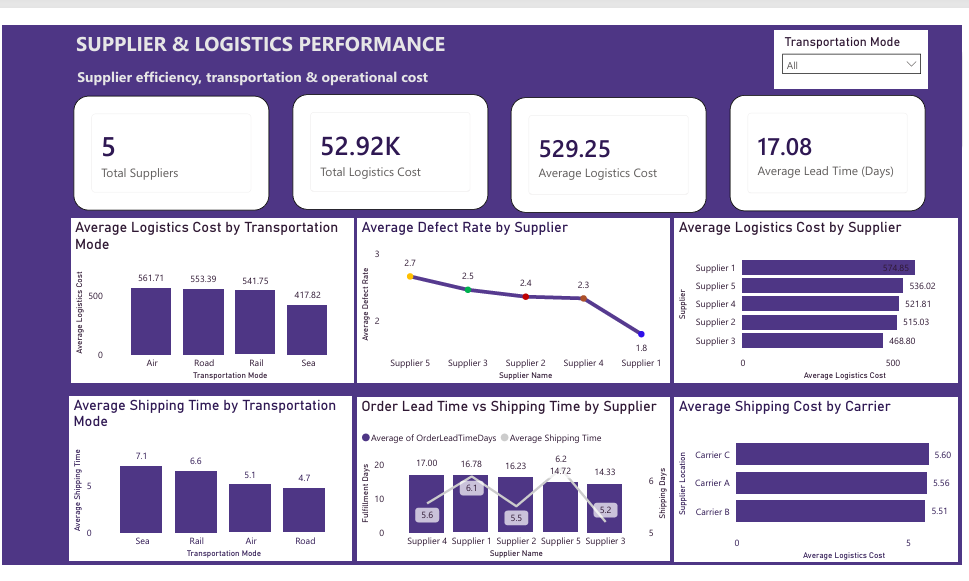

Layout of this report page (visuals, bound fields, positions):
{"tool":"powerbi","page":{"name":"Supplier & Logistics Performance","canvas":[1280,720],"ordinal":2},"visuals":[{"type":"textbox","box":[26,0,640.9,50.4],"z":0},{"type":"textbox","box":[26,42.3,613.2,61.8],"z":1000},{"type":"clusteredColumnChart","title":"Average  Logistics Cost by Transportation Mode","fields":{"Category":["supplychainanalytics supply_chain_data.TransportationMode"],"Y":["Avg(supplychainanalytics supply_chain_data.LogisticsCosts)"]},"box":[34.2,257,377.4,219.6],"z":2000},{"type":"clusteredBarChart","title":"Average Logistics Cost by Supplier","fields":{"Category":["supplychainanalytics supply_chain_data.SupplierName"],"Y":["Avg(supplychainanalytics supply_chain_data.LogisticsCosts)"]},"box":[870.2,257,377.4,219.6],"z":3000},{"type":"slicer","fields":{"Values":["supplychainanalytics supply_chain_data.TransportationMode"]},"box":[1036.1,3.3,204.9,78.1],"z":4000},{"type":"shape","box":[342.5,91.4,274,152],"z":4000,"group":"g2"},{"type":"shape","box":[661.2,89.7,274,152],"z":5000,"group":"g3"},{"type":"shape","box":[20.3,91.3,274,152],"z":5000,"group":"g1"},{"type":"clusteredColumnChart","title":"Average Shipping Time by Transportation Mode","fields":{"Y":["supplychainanalytics supply_chain_data.Average Shipping Time"],"Category":["supplychainanalytics supply_chain_data.TransportationMode"]},"box":[34.2,494.5,377.4,219.6],"z":5000},{"type":"cardVisual","fields":{"Data":["Count(supplychainanalytics supply_chain_data.SupplierName)"]},"box":[31.8,89.7,261,153],"z":6000,"group":"g1"},{"type":"shape","box":[974.9,91.4,274.9,152.9],"z":6000,"group":"g5"},{"type":"clusteredBarChart","title":"Average Shipping Cost by Carrier","fields":{"Category":["supplychainanalytics supply_chain_data.ShippingCarrier"],"Y":["Avg(supplychainanalytics supply_chain_data.ShippingCosts)"]},"box":[870.2,496.1,377.4,219.6],"z":6000},{"type":"group","id":"g1","title":"Group 1","box":[20.3,89.7,274,153.6],"z":7000,"group":"g4"},{"type":"lineClusteredColumnComboChart","title":" Order Lead Time vs Shipping Time by Supplier","fields":{"Category":["supplychainanalytics supply_chain_data.SupplierName"],"Y2":["supplychainanalytics supply_chain_data.Average Shipping Time"],"Y":["Avg(supplychainanalytics supply_chain_data.OrderLeadTimeDays)"]},"box":[432.7,496.1,416.4,218],"z":7000},{"type":"cardVisual","fields":{"Data":["supplychainanalytics supply_chain_data.Total Logistics Cost"]},"box":[353.9,88.1,261,154],"z":8000,"group":"g2"},{"type":"lineChart","title":"Average Defect Rate by Supplier","fields":{"Category":["supplychainanalytics supply_chain_data.SupplierName"],"Y":["supplychainanalytics supply_chain_data.Average Defect Rate"]},"box":[431,257,416.4,219.6],"z":8000},{"type":"group","id":"g2","title":"Group 2","box":[342.5,88.1,274,155.3],"z":8001,"group":"g4"},{"type":"cardVisual","fields":{"Data":["Avg(supplychainanalytics supply_chain_data.LogisticsCosts)"]},"box":[672.6,91.3,261,154],"z":8501,"group":"g3"},{"type":"group","id":"g3","title":"Group 3","box":[661.2,89.7,274,155.6],"z":8502,"group":"g4"},{"type":"group","id":"g4","title":"Group 5","box":[20.3,88.1,1229.4,157.3],"z":9000},{"type":"cardVisual","fields":{"Data":["supplychainanalytics supply_chain_data.Average Supplier Lead Time"]},"box":[986.3,88.1,261,154.5],"z":9002,"group":"g5"},{"type":"group","id":"g5","title":"Group 4","box":[974.9,88.1,274.9,156.1],"z":9003,"group":"g4"}]}

Visuals, with their boxes on the page's 1280x720 design canvas (x1, y1, x2, y2). These are canvas units, not pixel positions in the 969x581 screenshot, which may show the page scaled, cropped or inside an application window:
textbox: [left=26, top=0, right=667, bottom=50]
textbox: [left=26, top=42, right=639, bottom=104]
"Average  Logistics Cost by Transportation Mode" clusteredColumnChart: [left=34, top=257, right=412, bottom=477]
"Average Logistics Cost by Supplier" clusteredBarChart: [left=870, top=257, right=1248, bottom=477]
slicer - supplychainanalytics supply_chain_data.TransportationMode: [left=1036, top=3, right=1241, bottom=81]
shape: [left=342, top=91, right=616, bottom=243]
shape: [left=661, top=90, right=935, bottom=242]
shape: [left=20, top=91, right=294, bottom=243]
"Average Shipping Time by Transportation Mode" clusteredColumnChart: [left=34, top=494, right=412, bottom=714]
cardVisual - Count(supplychainanalytics supply_chain_data.SupplierName): [left=32, top=90, right=293, bottom=243]
shape: [left=975, top=91, right=1250, bottom=244]
"Average Shipping Cost by Carrier" clusteredBarChart: [left=870, top=496, right=1248, bottom=716]
"Group 1" group: [left=20, top=90, right=294, bottom=243]
" Order Lead Time vs Shipping Time by Supplier" lineClusteredColumnComboChart: [left=433, top=496, right=849, bottom=714]
cardVisual - supplychainanalytics supply_chain_data.Total Logistics Cost: [left=354, top=88, right=615, bottom=242]
"Average Defect Rate by Supplier" lineChart: [left=431, top=257, right=847, bottom=477]
"Group 2" group: [left=342, top=88, right=616, bottom=243]
cardVisual - Avg(supplychainanalytics supply_chain_data.LogisticsCosts): [left=673, top=91, right=934, bottom=245]
"Group 3" group: [left=661, top=90, right=935, bottom=245]
"Group 5" group: [left=20, top=88, right=1250, bottom=245]
cardVisual - supplychainanalytics supply_chain_data.Average Supplier Lead Time: [left=986, top=88, right=1247, bottom=243]
"Group 4" group: [left=975, top=88, right=1250, bottom=244]
